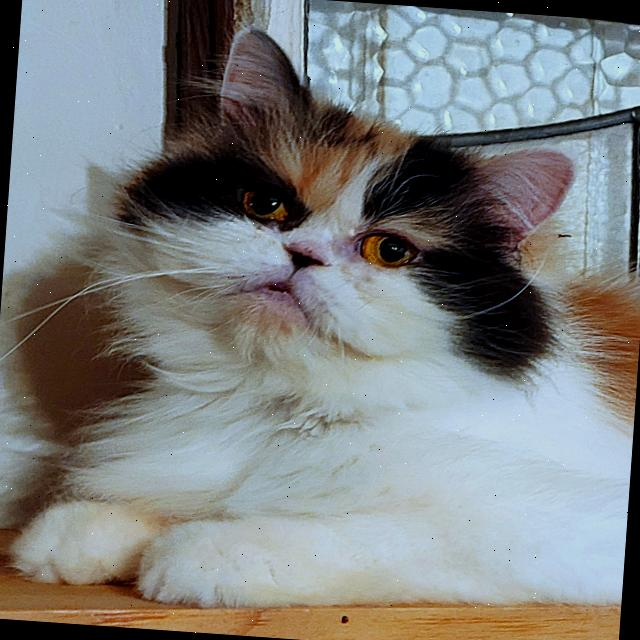persian_cat: (54, 6, 612, 444)
